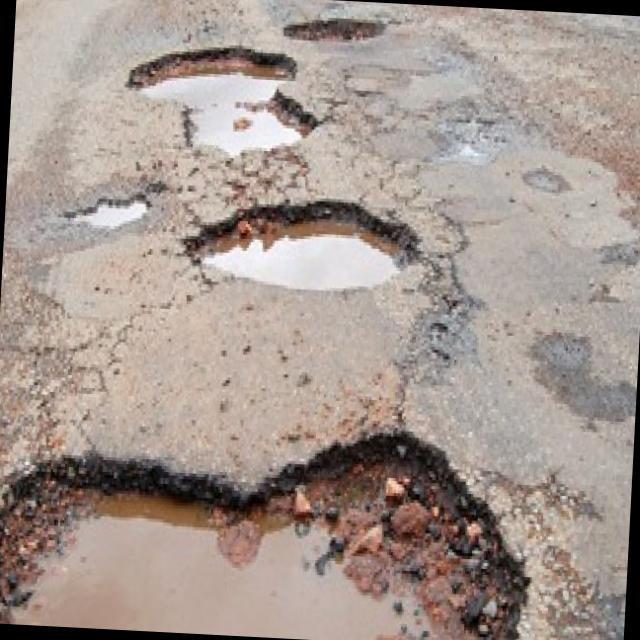Potholes: (0, 396, 539, 640), (184, 182, 424, 298), (121, 36, 319, 166), (274, 6, 395, 54), (70, 174, 156, 236)
